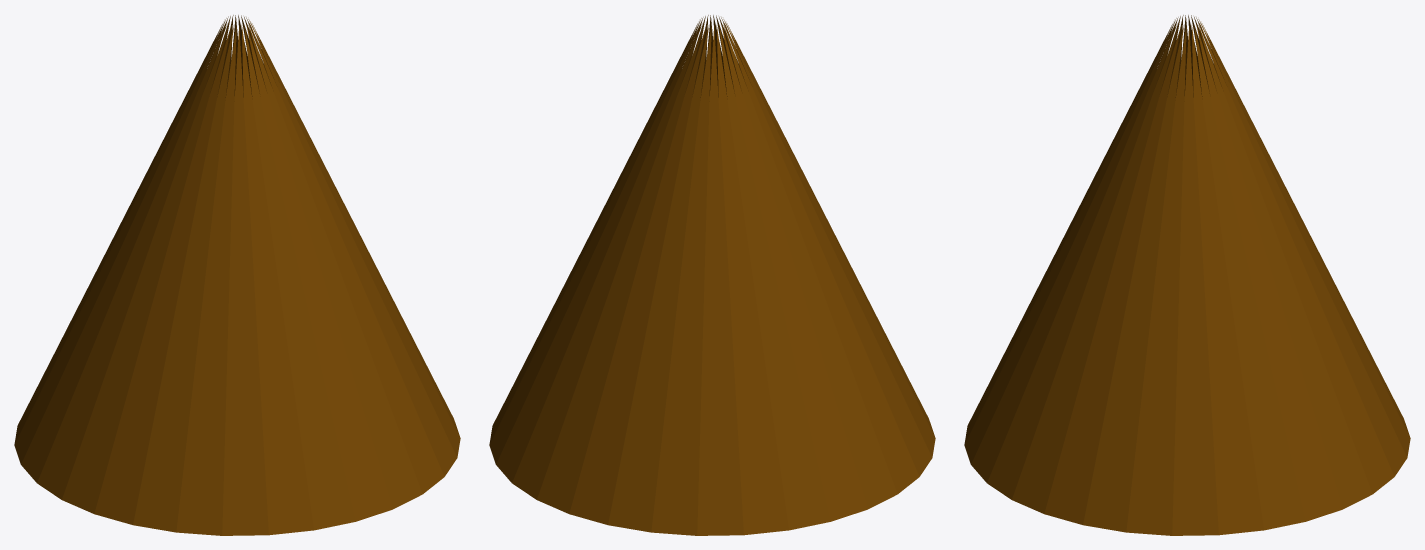
Rendered from original-6.obj.
The picture shows the model from 3 angles, left to right: view 1: azimuth 30°, elevation 25°; view 2: azimuth 150°, elevation 25°; view 3: azimuth 270°, elevation 25°; orthographic projection.
Parts seen in each view (by area): view 1: #ID29; view 2: #ID29; view 3: #ID29.
Part boxes in pixels (x1,y1,x2,y2): #ID29: (14,15,460,535); #ID29: (489,15,935,535); #ID29: (964,15,1410,535).
Size of the model in its own units: 0.0752 by 0.0924 by 0.0754.
